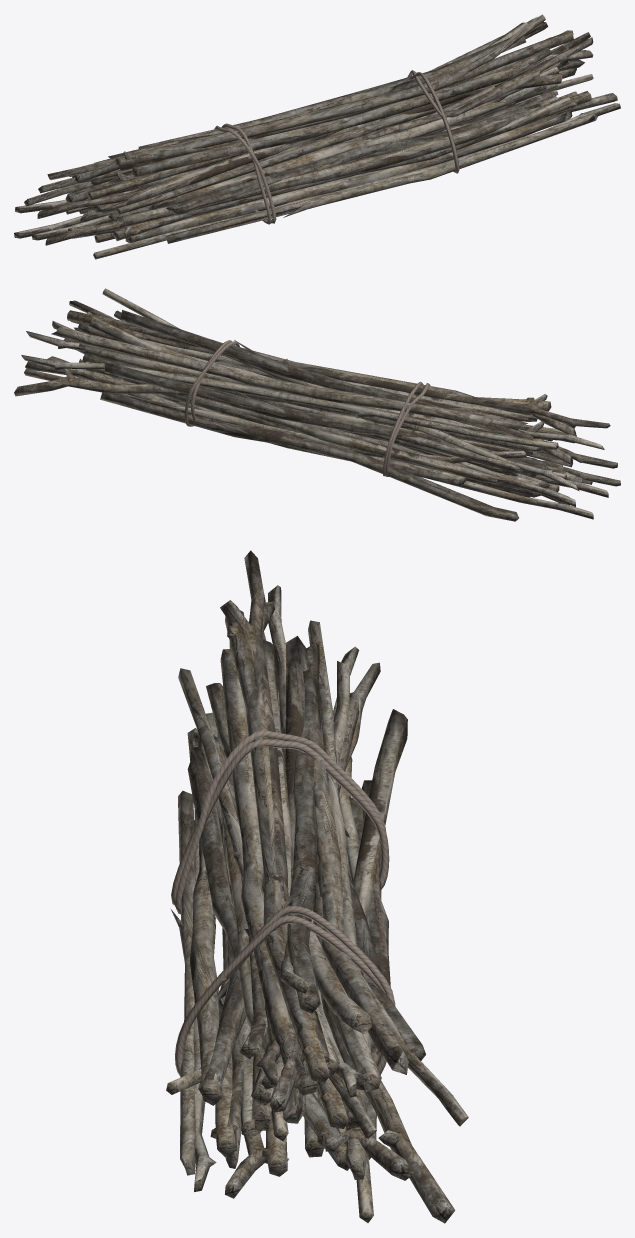
File: SM_TwigPile.fbx
3 views of the same model, one above another, from view 1: azimuth 30°, elevation 25°; view 2: azimuth 150°, elevation 25°; view 3: azimuth 270°, elevation 25° (orthographic). The views are drawn at different scales.
Visible parts, largest first — view 1: SM_TwigPile_LOD0; view 2: SM_TwigPile_LOD0; view 3: SM_TwigPile_LOD0.
Boxes of the visible parts, box(x1,y1,x2,y2) form: SM_TwigPile_LOD0: box(14, 14, 620, 259); SM_TwigPile_LOD0: box(14, 288, 620, 521); SM_TwigPile_LOD0: box(166, 550, 468, 1223).
Size of the model in its own units: 308 by 71.62 by 62.05.
